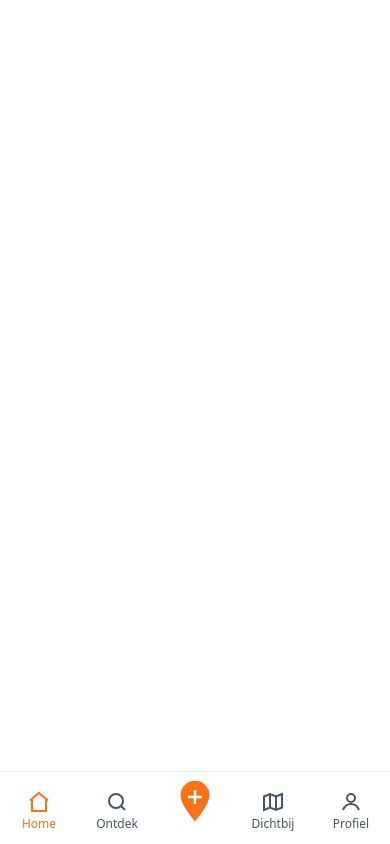
Test: BottomNav — create sheet › closes via the backdrop
Click the button named "Review of bite plaatsen".
click(195, 800)  # box [156, 764, 234, 836]
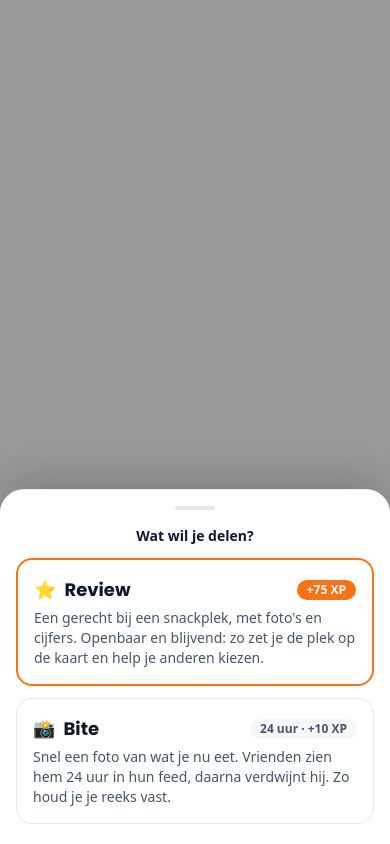
Click the button named "Sluiten".
click(195, 422)  # box [0, 0, 389, 843]
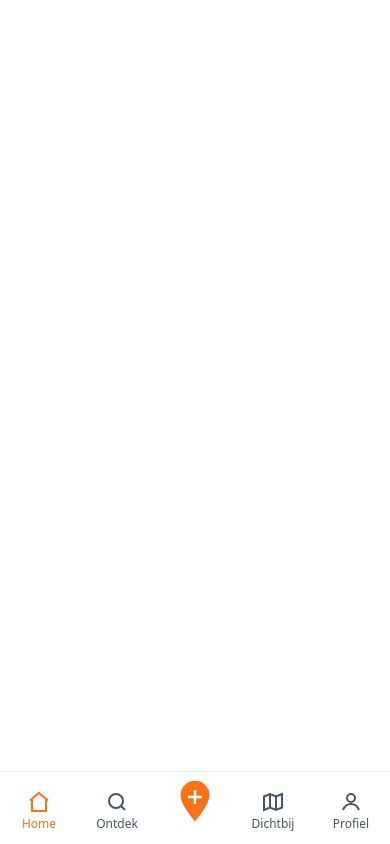
Now the dialog is gone
